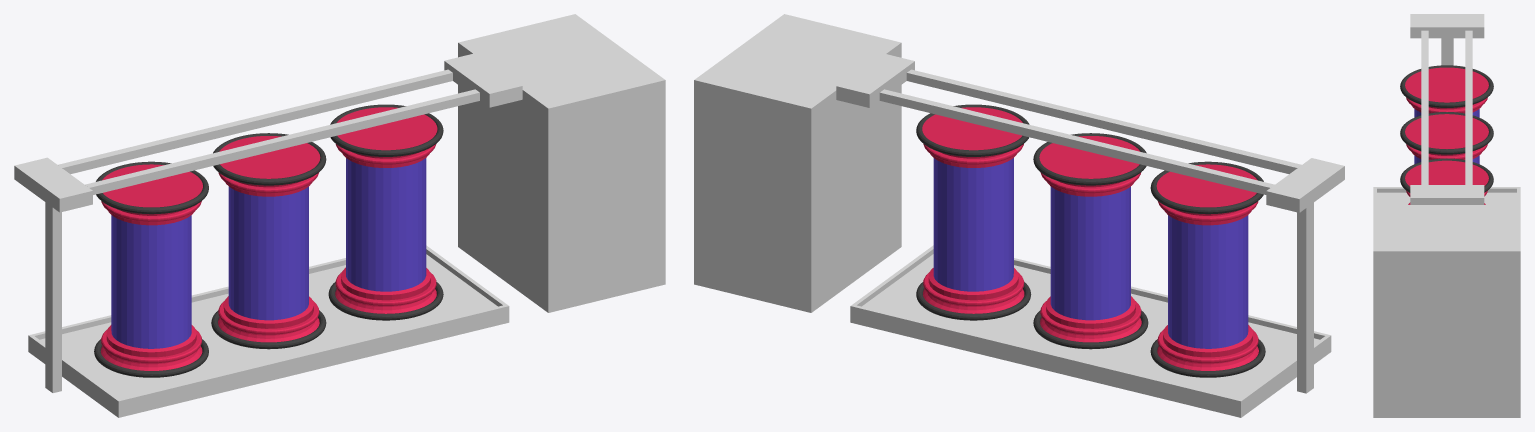
Rendered from basic storage.fbx.
The picture shows the model from 3 angles, left to right: view 1: azimuth 30°, elevation 25°; view 2: azimuth 150°, elevation 25°; view 3: azimuth 270°, elevation 25°; orthographic projection. The views are drawn at different scales.
Parts seen in each view (by area): view 1: bldg, base, fill.002, fill.003, fill.004, base.003, base.004, base.002, rail base.001, top rail b, top rail a, rail base (+6 smaller); view 2: bldg, base, fill.002, fill.004, fill.003, base.002, base.003, base.004, rail base.001, top rail a, top rail b, rail base (+6 smaller); view 3: bldg, base.003, base.002, rail base.001, base.004, rail base, base, top rail a, top rail b, top support.002, top support.003, top support.004.
Boxes of the visible parts, left/top/right/bottom form: bldg: left=458, top=14, right=665, bottom=312; base: left=28, top=245, right=509, bottom=417; fill.002: left=228, top=186, right=308, bottom=320; fill.003: left=111, top=215, right=191, bottom=348; fill.004: left=346, top=158, right=426, bottom=291; base.003: left=100, top=164, right=202, bottom=370; base.004: left=335, top=107, right=437, bottom=313; base.002: left=218, top=136, right=320, bottom=342; rail base.001: left=14, top=157, right=92, bottom=392; top rail b: left=85, top=89, right=479, bottom=194; top rail a: left=58, top=69, right=452, bottom=174; rail base: left=444, top=52, right=522, bottom=107; bldg: left=694, top=14, right=901, bottom=312; base: left=850, top=245, right=1331, bottom=417; fill.002: left=1050, top=186, right=1130, bottom=320; fill.004: left=933, top=158, right=1013, bottom=291; fill.003: left=1168, top=215, right=1248, bottom=348; base.002: left=1039, top=136, right=1141, bottom=342; base.003: left=1156, top=164, right=1258, bottom=370; base.004: left=922, top=107, right=1024, bottom=313; rail base.001: left=1266, top=158, right=1344, bottom=393; top rail a: left=879, top=89, right=1274, bottom=194; top rail b: left=906, top=69, right=1301, bottom=173; rail base: left=836, top=53, right=914, bottom=107; bldg: left=1373, top=205, right=1520, bottom=417; base.003: left=1405, top=67, right=1488, bottom=204; base.002: left=1405, top=114, right=1488, bottom=159; rail base.001: left=1410, top=14, right=1484, bottom=65; base.004: left=1405, top=160, right=1488, bottom=196; rail base: left=1410, top=185, right=1484, bottom=204; base: left=1373, top=187, right=1520, bottom=204; top rail a: left=1465, top=30, right=1472, bottom=184; top rail b: left=1421, top=30, right=1428, bottom=184; top support.002: left=1400, top=112, right=1493, bottom=154; top support.003: left=1400, top=65, right=1493, bottom=107; top support.004: left=1400, top=158, right=1493, bottom=192.
Size of the model in its own units: 1493 by 517 by 400.
